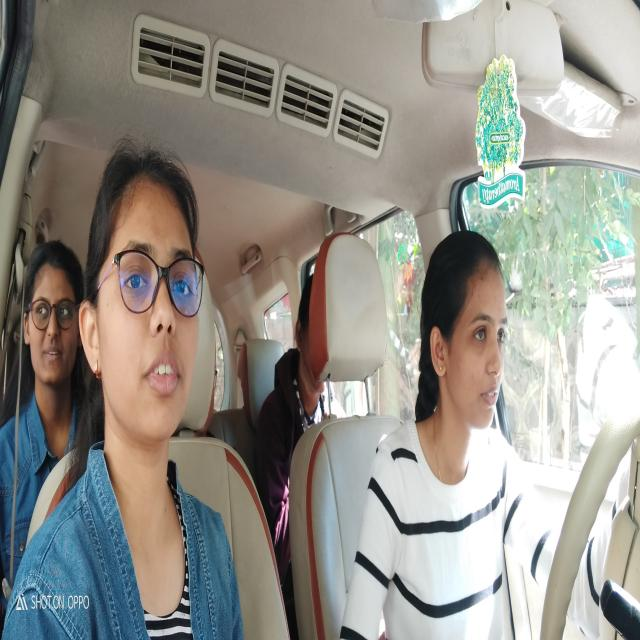person: (80, 149, 202, 450), (418, 229, 515, 450), (19, 237, 84, 397), (295, 266, 326, 396)
